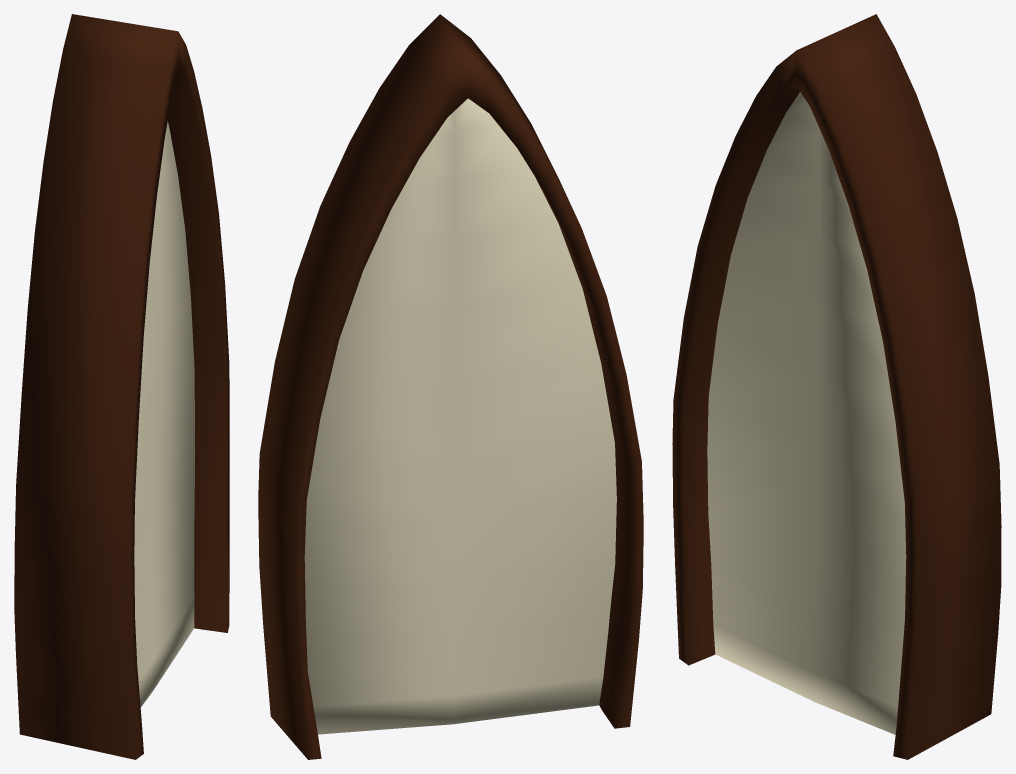
The model's file is DoorLvl4.fbx.
3 views of the same model, side by side, from view 1: azimuth 30°, elevation 25°; view 2: azimuth 150°, elevation 25°; view 3: azimuth 270°, elevation 25° (orthographic). The views are drawn at different scales.
Parts seen in each view (by area): view 1: DoorFrame.Lvl.4, DoorWay.Lvl4; view 2: DoorWay.Lvl4, DoorFrame.Lvl.4; view 3: DoorFrame.Lvl.4, DoorWay.Lvl4.
Part boxes in pixels (x1=…): DoorFrame.Lvl.4: x1=14, y1=14, x2=229, y2=759; DoorWay.Lvl4: x1=134, y1=121, x2=194, y2=707; DoorWay.Lvl4: x1=304, y1=98, x2=616, y2=734; DoorFrame.Lvl.4: x1=258, y1=14, x2=643, y2=759; DoorFrame.Lvl.4: x1=672, y1=14, x2=1001, y2=759; DoorWay.Lvl4: x1=707, y1=92, x2=906, y2=734.
Bounding box in the file's own units: 159 × 346 × 155.
